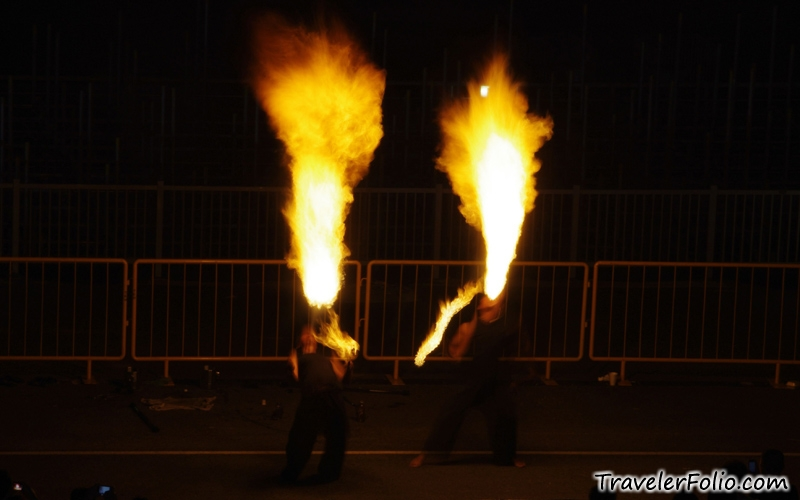fire: (264, 28, 389, 319), (431, 63, 556, 299)
